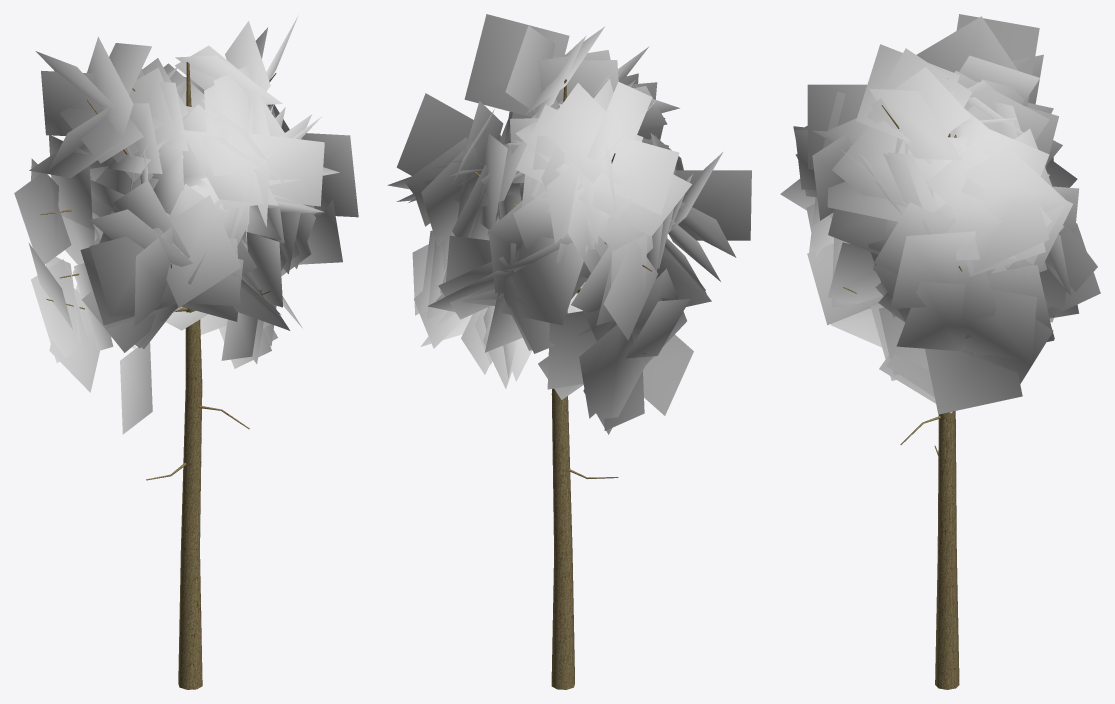
The model's file is long_leaf_pine_LOD1.fbx.
3 views of the same model, side by side, from view 1: azimuth 30°, elevation 25°; view 2: azimuth 150°, elevation 25°; view 3: azimuth 270°, elevation 25° (orthographic). The views are drawn at different scales.
Parts seen in each view (by area): view 1: long_leaf_pine_LOD1; view 2: long_leaf_pine_LOD1; view 3: long_leaf_pine_LOD1.
Boxes of the visible parts, <box> form: long_leaf_pine_LOD1: <box>14,15,358,689</box>; long_leaf_pine_LOD1: <box>387,14,751,689</box>; long_leaf_pine_LOD1: <box>780,14,1100,689</box>.
Size of the model in its own units: 679 by 1596 by 725.
